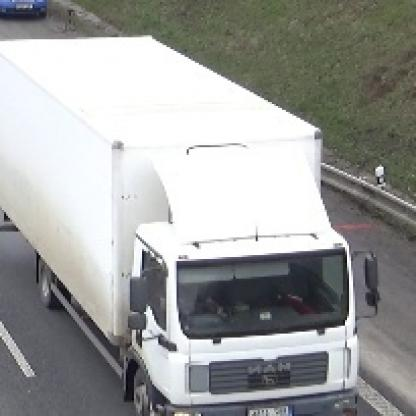truck: (1, 36, 378, 414)
